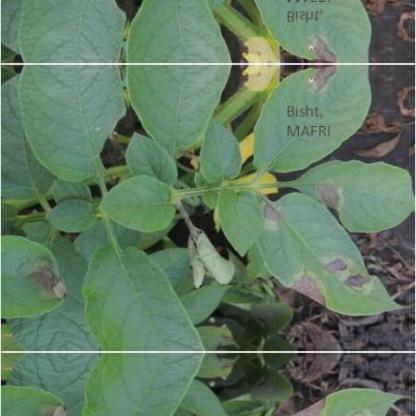Early-Blight: (250, 190, 406, 320), (1, 230, 70, 318), (290, 165, 378, 231), (170, 226, 240, 302), (250, 382, 405, 416), (289, 63, 383, 97), (289, 29, 383, 63), (0, 385, 69, 416), (230, 62, 286, 90), (230, 36, 286, 64)
